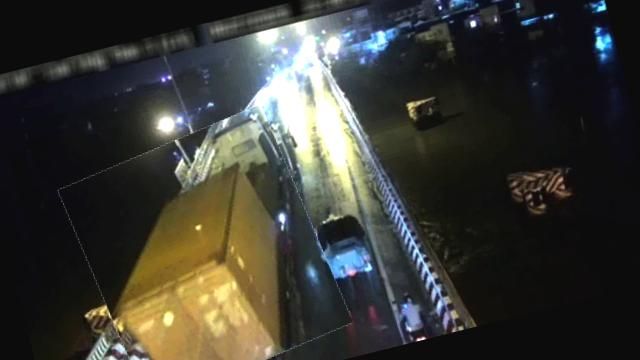Truck: (59, 104, 350, 360)
